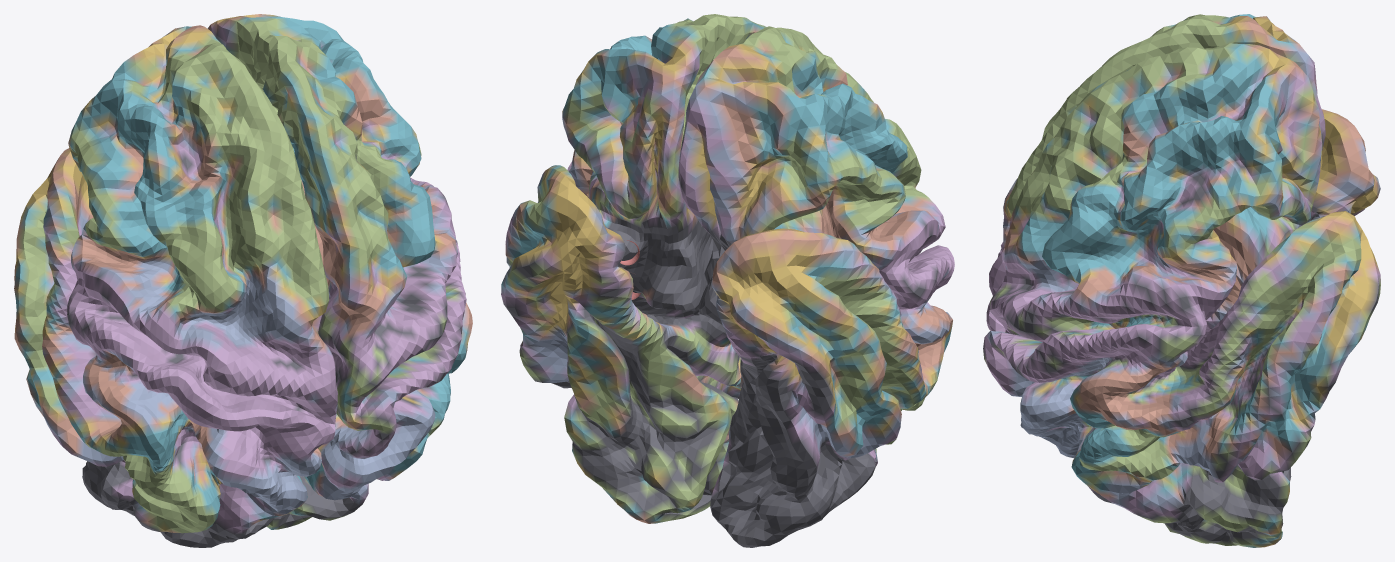
Rendered from brain.glb.
The picture shows the model from 3 angles, left to right: view 1: azimuth 30°, elevation 25°; view 2: azimuth 150°, elevation 25°; view 3: azimuth 270°, elevation 25°; orthographic projection. The views are drawn at different scales.
Size of the model in its own units: 139 by 174 by 128.
